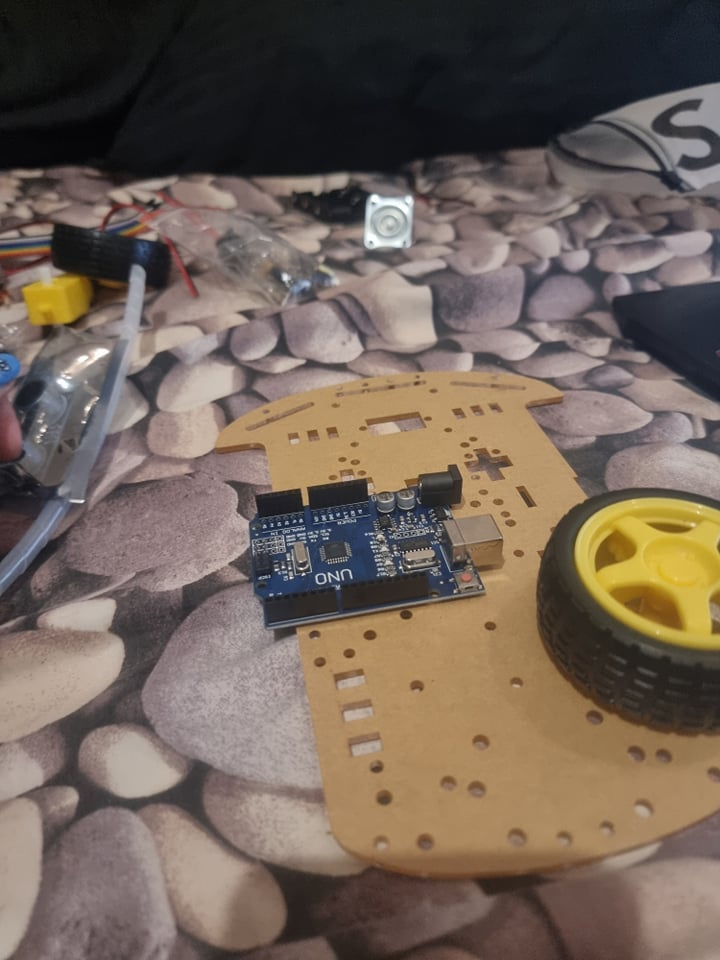BATTERY BOX: (283, 180, 371, 227)
UNO R3: (230, 466, 505, 634)
